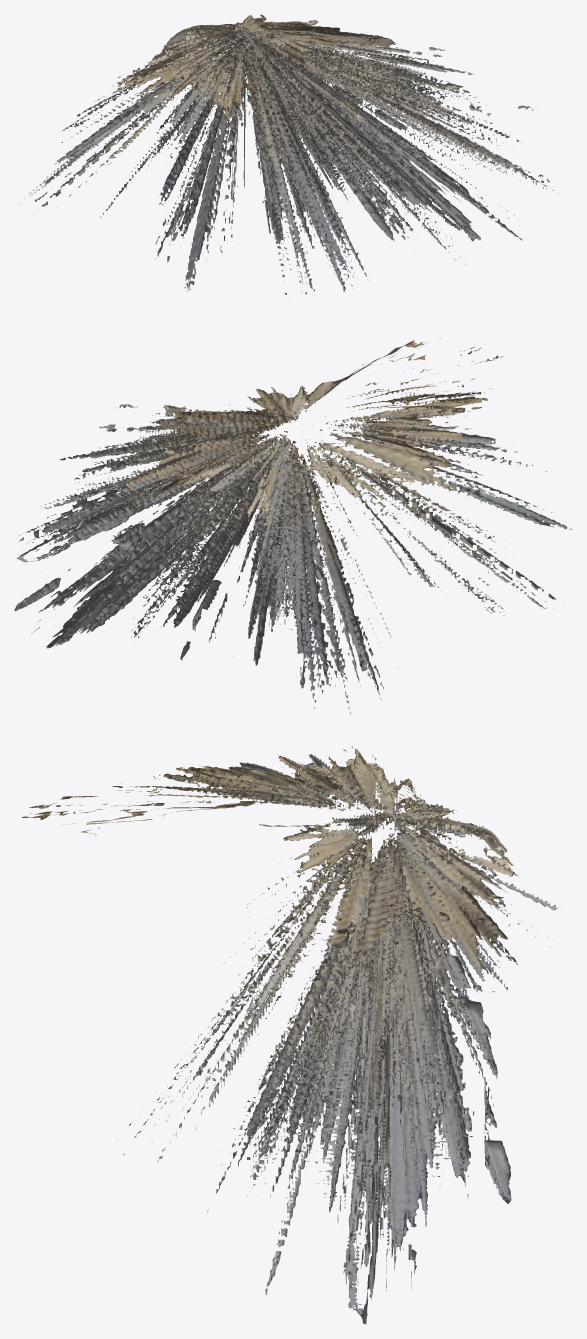
The model's file is world-1770434384106.glb.
The picture shows the model from 3 angles, top to bottom: view 1: azimuth 30°, elevation 25°; view 2: azimuth 150°, elevation 25°; view 3: azimuth 270°, elevation 25°; orthographic projection. The views are drawn at different scales.
Parts seen in each view (by area): view 1: world; view 2: world; view 3: world.
Boxes of the visible parts, x1,y1,x2,y2 form: world: [20, 14, 565, 294]; world: [14, 338, 572, 714]; world: [22, 746, 561, 1324].
Bounding box in the file's own units: 234 × 126 × 176.
